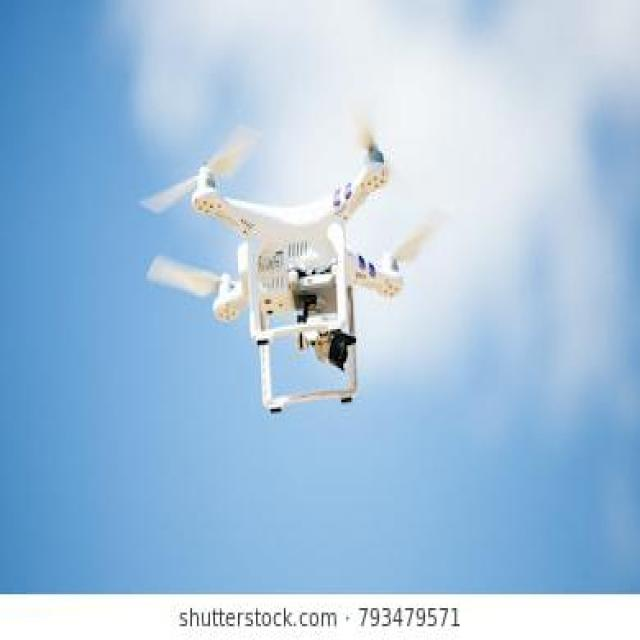drone: (124, 97, 459, 432)
